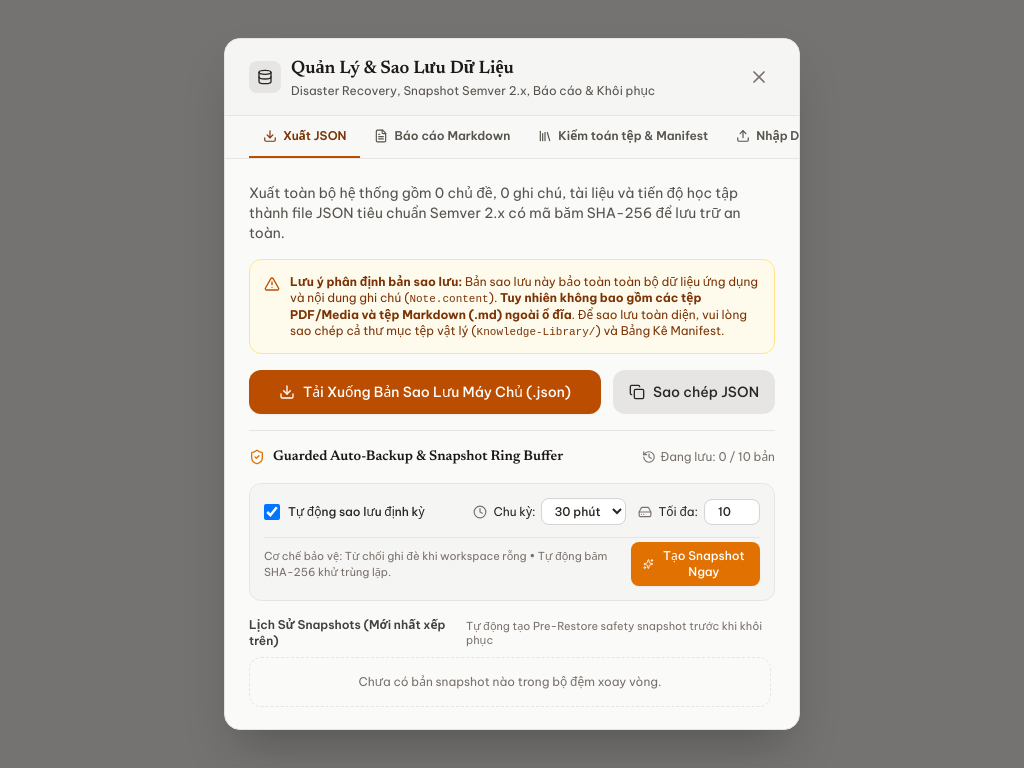
Scenario: Post-Phase 6b: UI - Recommended Structure, Browser Limitation Warning & Backup Checklist › renders recommended folder structure guidance (Knowledge-Library/PDF, Notes, Attachments, Inbox, Exports)
This screenshot has width=1024, height=768.
Click the button "Kiểm toán tệp & Manifest".
click(623, 137)  # box [524,116,722,158]
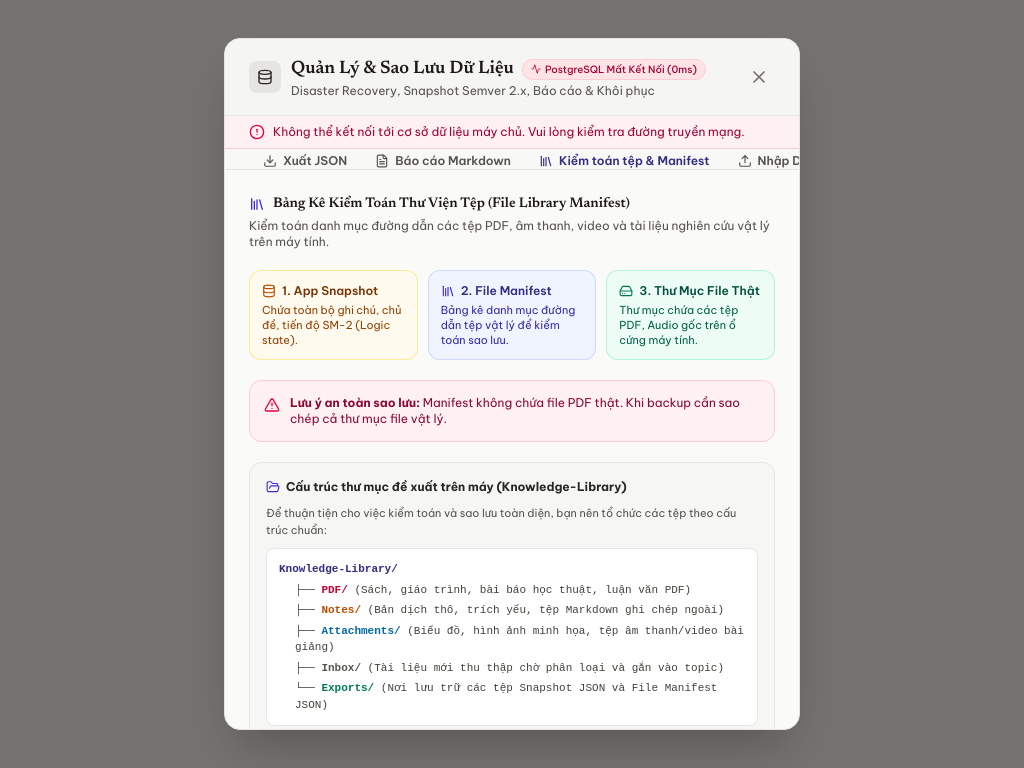
Expected: the text "PDF/" is shown, [321,584,348,596]
Expected: the heading "Cấu trúc thư mục đề xuất trên máy (Knowledge-Library)" is shown, [266,479,627,494]
Expected: the text "Notes/" is shown, [321,604,361,616]
